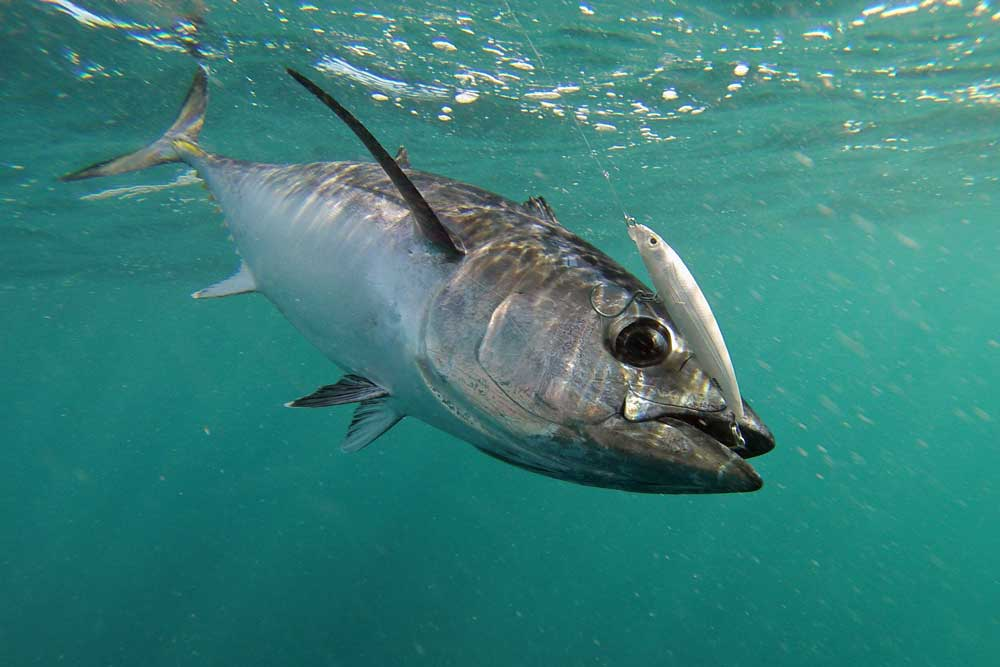Fish: (60, 65, 774, 500), (626, 216, 747, 430)
